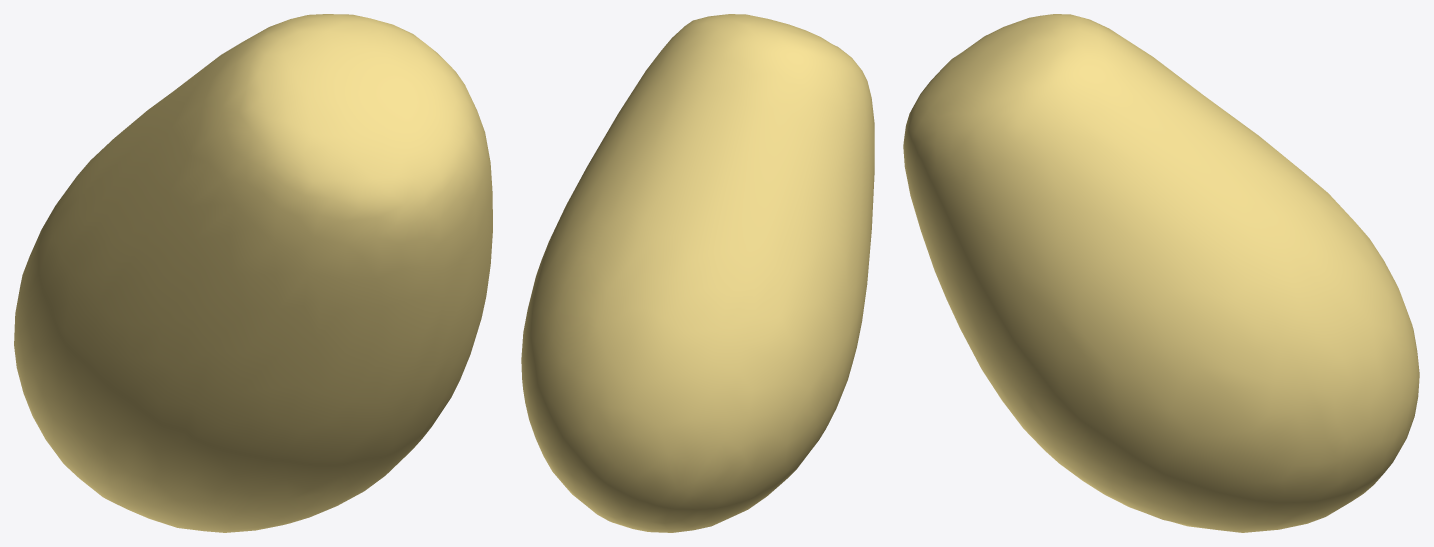
Rendered from fma73681_mm2481m.glb.
3 views of the same model, side by side, from view 1: azimuth 30°, elevation 25°; view 2: azimuth 150°, elevation 25°; view 3: azimuth 270°, elevation 25° (orthographic). The views are drawn at different scales.
Parts seen in each view (by area): view 1: FMA73681_MM2481M; view 2: FMA73681_MM2481M; view 3: FMA73681_MM2481M.
Part boxes in pixels (x1=…): FMA73681_MM2481M: x1=14, y1=14, x2=492, y2=532; FMA73681_MM2481M: x1=521, y1=14, x2=874, y2=532; FMA73681_MM2481M: x1=903, y1=14, x2=1419, y2=532.
Size of the model in its own units: 0.00278 by 0.00401 by 0.00382.
